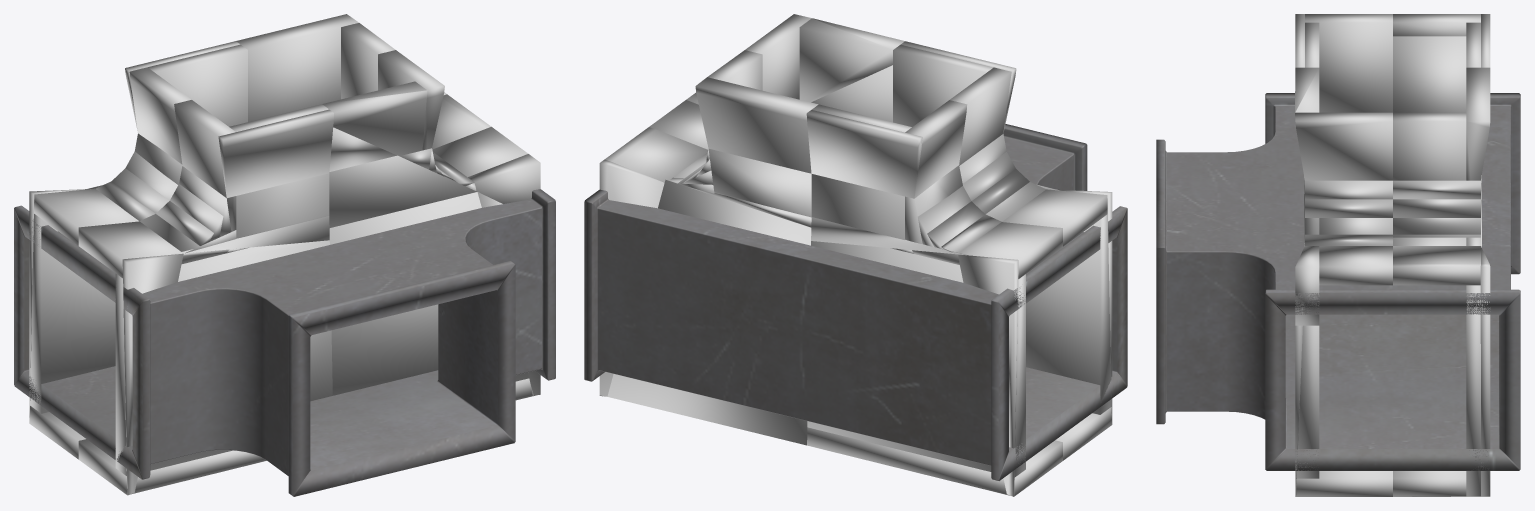
Rendered from SM_Vent_3Directions.fbx.
The picture shows the model from 3 angles, left to right: view 1: azimuth 30°, elevation 25°; view 2: azimuth 150°, elevation 25°; view 3: azimuth 270°, elevation 25°; orthographic projection.
Parts seen in each view (by area): view 1: SM_Vent_3Directions_ConvexHulls, SM_Vent_3Directions; view 2: SM_Vent_3Directions_ConvexHulls, SM_Vent_3Directions; view 3: SM_Vent_3Directions, SM_Vent_3Directions_ConvexHulls.
Boxes of the visible parts, <box> form: SM_Vent_3Directions_ConvexHulls: <box>29,14,540,495</box>; SM_Vent_3Directions: <box>14,189,555,496</box>; SM_Vent_3Directions_ConvexHulls: <box>599,14,1112,496</box>; SM_Vent_3Directions: <box>584,124,1127,480</box>; SM_Vent_3Directions: <box>1156,93,1520,470</box>; SM_Vent_3Directions_ConvexHulls: <box>1295,14,1490,496</box>.
Size of the model in its own units: 2 by 1.54 by 1.54.
